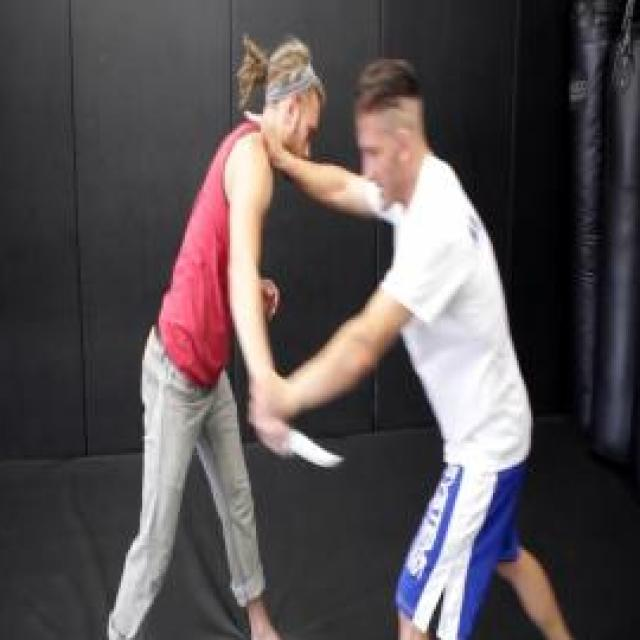knife: (240, 394, 350, 481)
